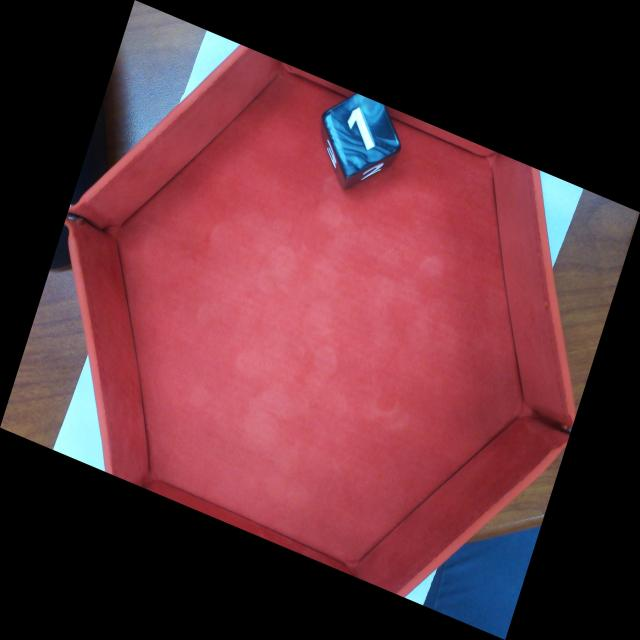dice: (321, 93, 404, 182)
